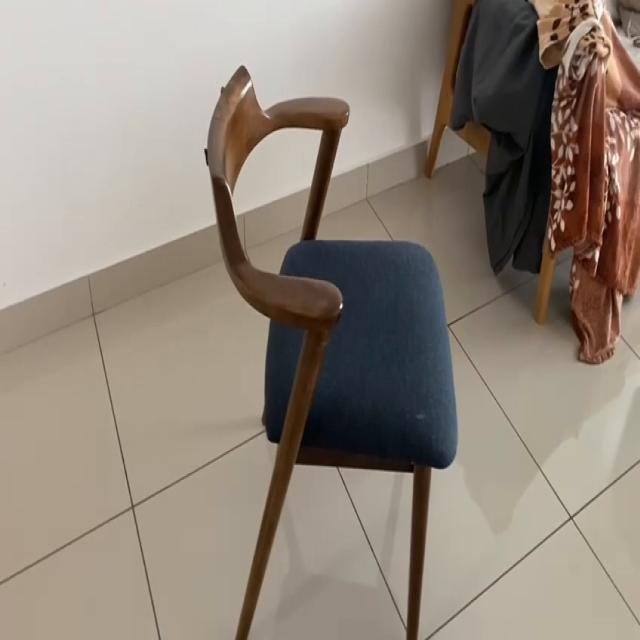Chair: (175, 50, 480, 634)
